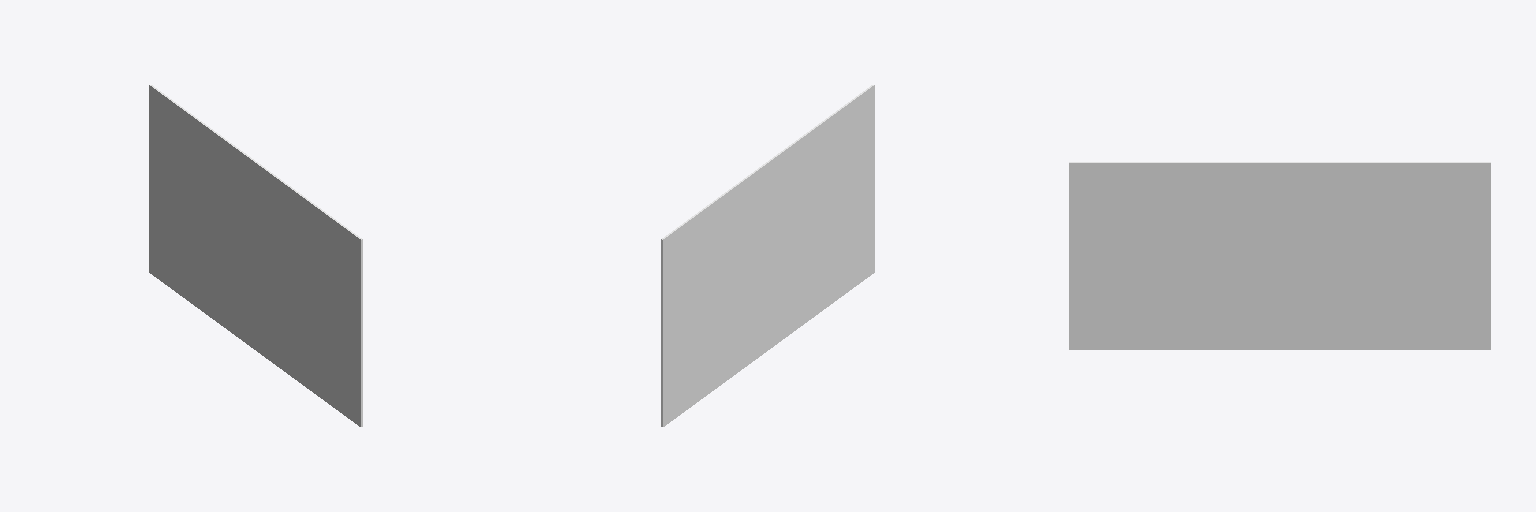
File: boss1_ground-0.obj
The picture shows the model from 3 angles: view 1: azimuth 30°, elevation 25°; view 2: azimuth 150°, elevation 25°; view 3: azimuth 270°, elevation 25°; orthographic projection.
Visible parts, largest first — view 1: object 1; view 2: object 1; view 3: object 1.
Boxes of the visible parts, <box> form: object 1: <box>149,85,362,426</box>; object 1: <box>661,85,874,426</box>; object 1: <box>1069,162,1490,349</box>.
Size of the model in its own units: 0.1 by 9.8 by 20.